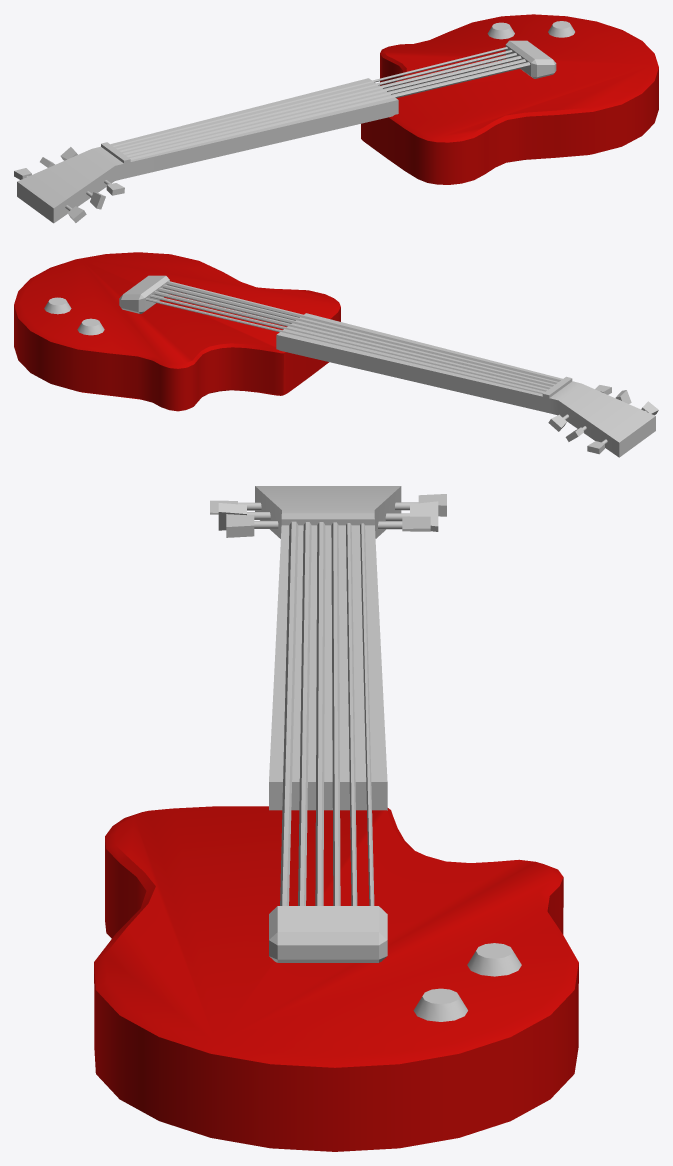
File: Gitar_l.fbx
The picture shows the model from 3 angles, top to bottom: view 1: azimuth 30°, elevation 25°; view 2: azimuth 150°, elevation 25°; view 3: azimuth 270°, elevation 25°; orthographic projection. The views are drawn at different scales.
Parts seen in each view (by area): view 1: Git_l; view 2: Git_l; view 3: Git_l.
Boxes of the visible parts, x1,y1,x2,y2 form: Git_l: (14,14,658,223); Git_l: (14,252,658,457); Git_l: (94,486,578,1151).
Bounding box in the file's own units: 131 × 45.34 × 13.72.
